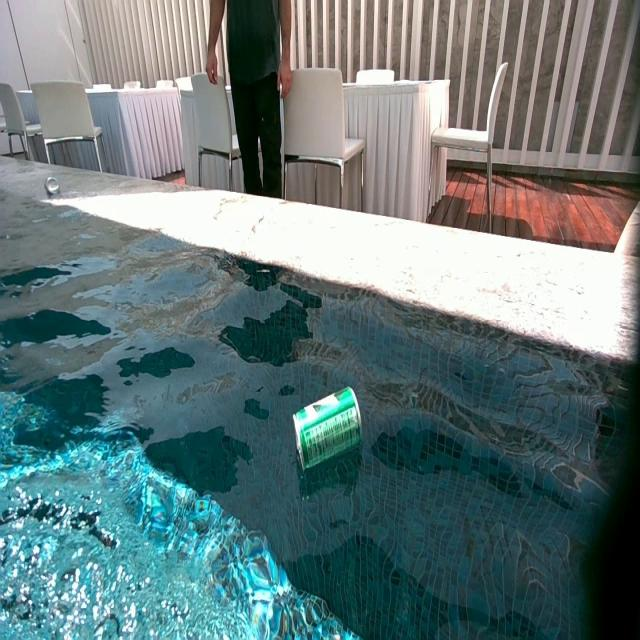Cans: (294, 388, 360, 472), (45, 177, 58, 193)
